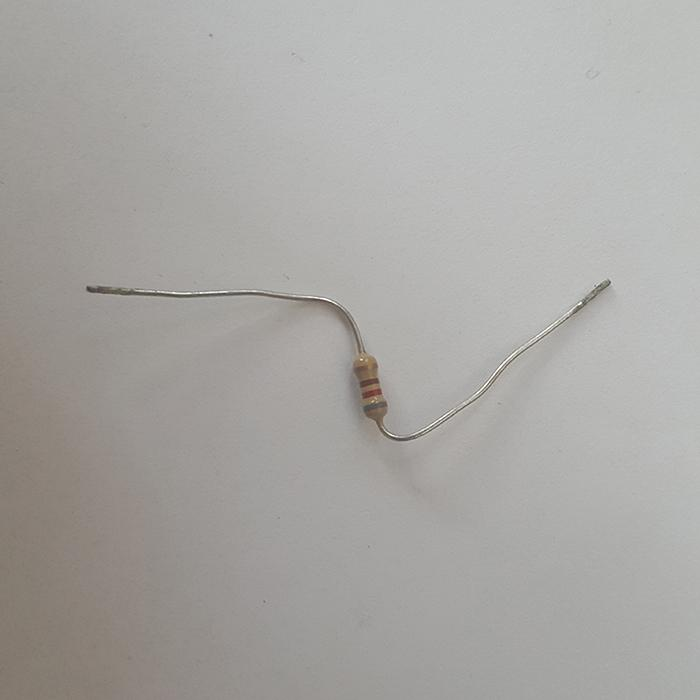resistor: (353, 353, 388, 424)
